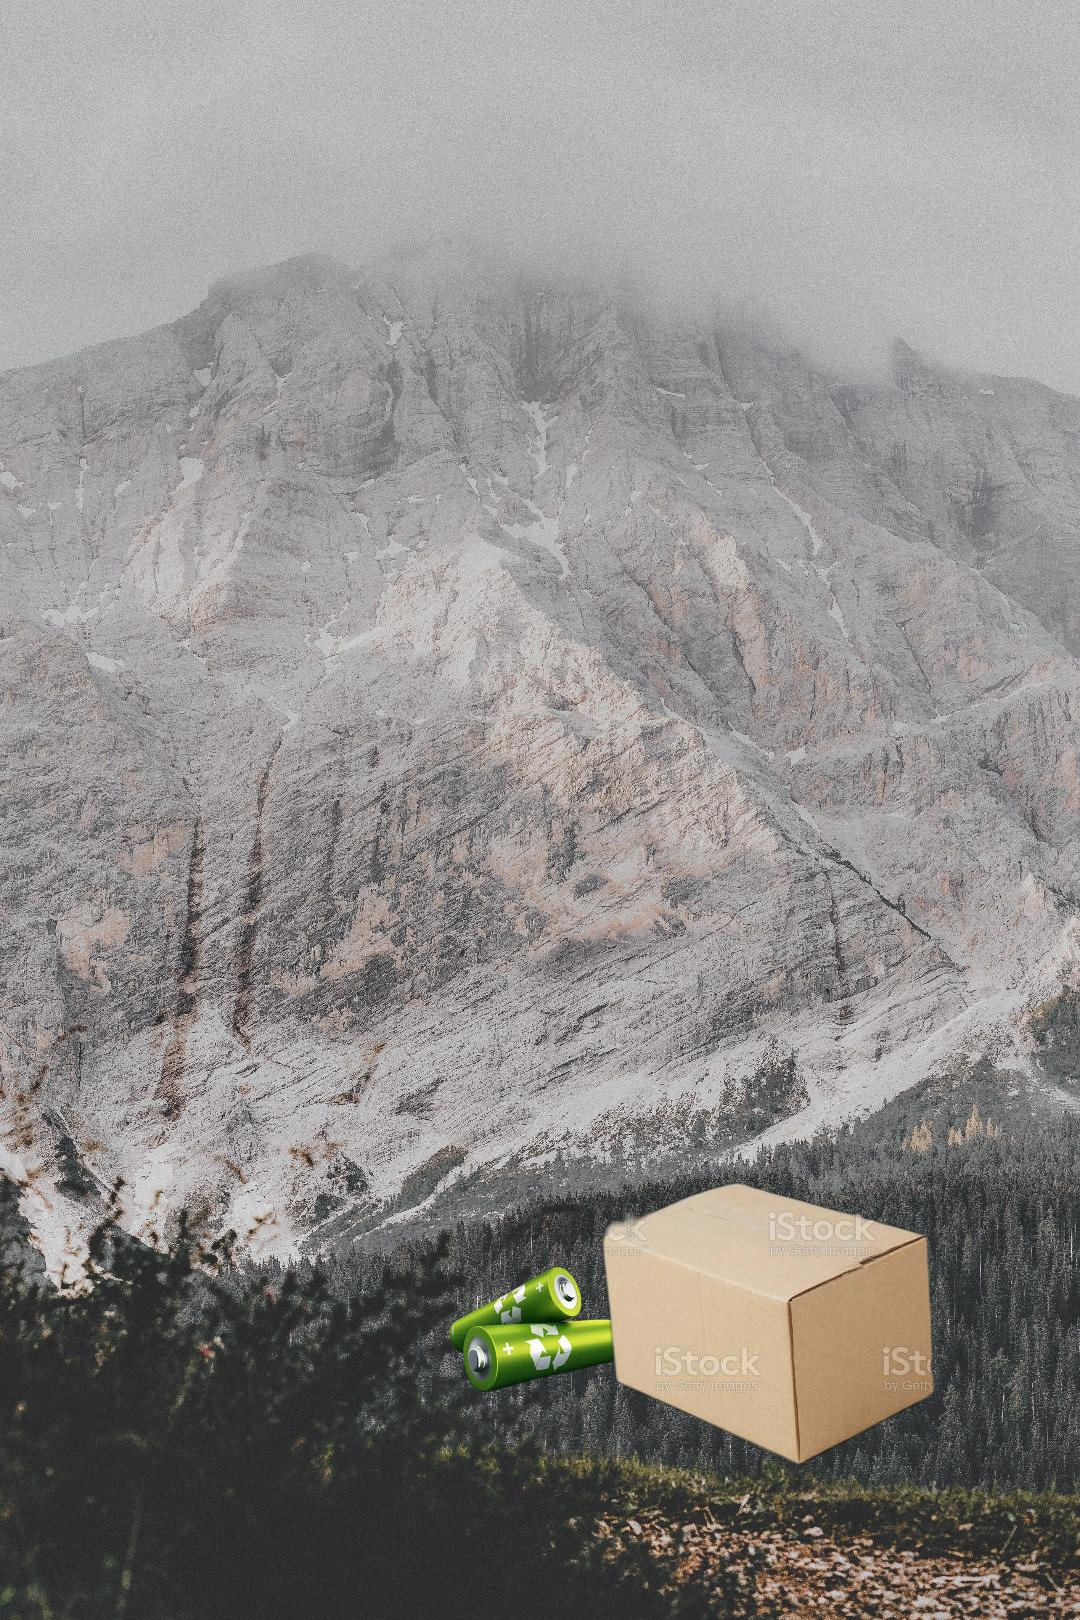battery: (447, 1264, 630, 1395)
trashbox-cardboard: (595, 1180, 941, 1468)
